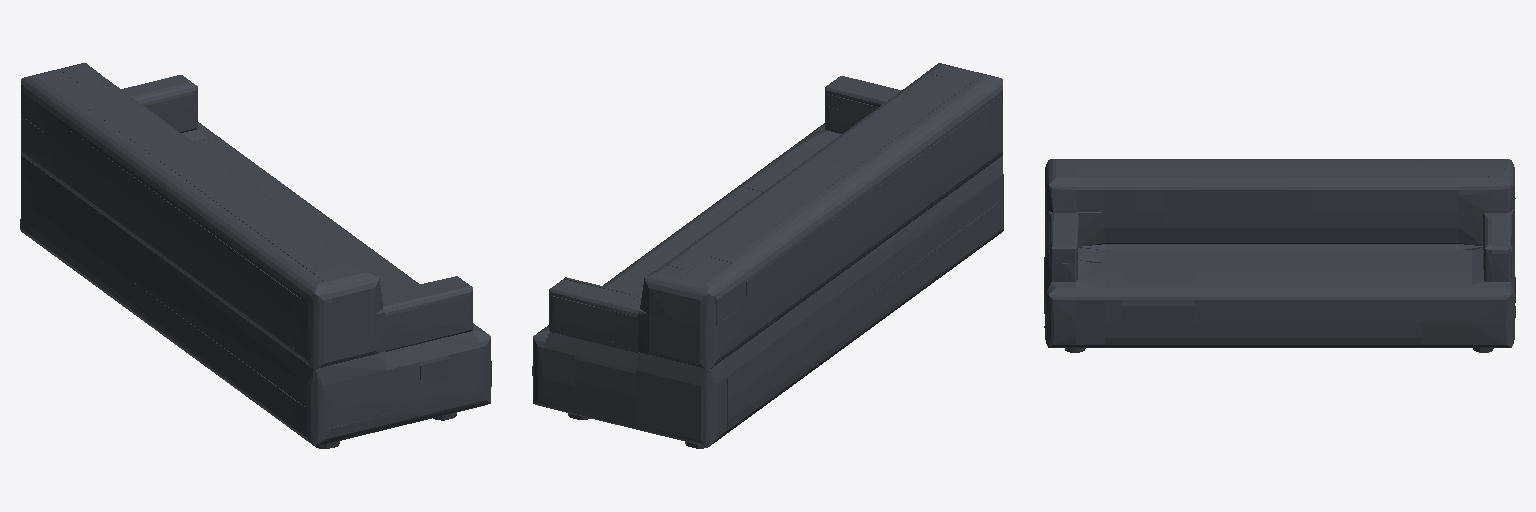
URDF robot description (../obj/sofa.urdf):
<?xml version="1.0" ?>
<robot name="../obj/sofa.urdf">
  <link name="baseLink">
    <inertial>
      <origin rpy="0 0 0" xyz="-0.0032 -0.0011 -0.0027"/>
       <mass value="50"/>
       <inertia ixx="8.246012307044194e-08" ixy="5.6967441105940873e-11" ixz="2.6834118016331826e-09" iyy="1.423863871864303e-08" iyz="-5.262695344508952e-11" izz="8.565156787165504e-08"/>
    </inertial>
    <visual>
      <origin rpy="0 0 0" xyz="-0.0032 -0.0011 -0.0027"/>
      <geometry>
        <mesh filename="../obj/sofa_vhacd.obj" 
		scale="25.0 25.0 25.0"/>
      </geometry>
     <material name="grey">
      <color rgba="0.32 0.33 0.36 1"/>
     </material>
    </visual>
    <collision>
      <origin rpy="0 0 0" xyz="-0.0032 -0.0011 -0.0027"/>
      <geometry>
        <mesh filename="../obj/sofa_vhacd.obj" scale="25.0 25.0 25.0"/>
      </geometry>
    </collision>
  </link>
</robot>
        

--- Facts derived from the render (not from the file) ---
3 views of the same robot in one strip: view 1: azimuth 30°, elevation 25°; view 2: azimuth 150°, elevation 25°; view 3: azimuth 270°, elevation 25° (orthographic).
Robot: ../obj/sofa.urdf — 1 links, 0 joints (none); root link baseLink; default pose: every joint at zero.
Visible links, largest first — view 1: baseLink; view 2: baseLink; view 3: baseLink.
Link boxes in pixels (bbox=[...]): baseLink: bbox=[20, 63, 491, 448]; baseLink: bbox=[532, 63, 1003, 448]; baseLink: bbox=[1044, 159, 1515, 352].
Bounding box of the posed robot: 0.9401 × 2.63 × 0.8422 m (x, y, z).
Meshes: 1 distinct files referenced, 1 mesh visuals loaded (1 OBJ).